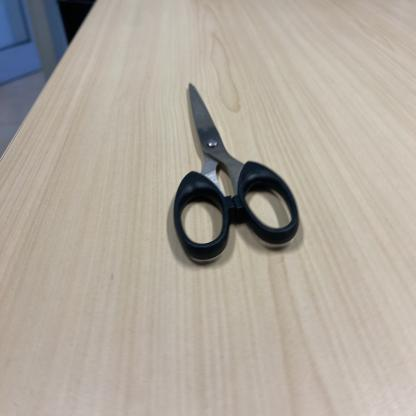scissors: (172, 82, 300, 263)
